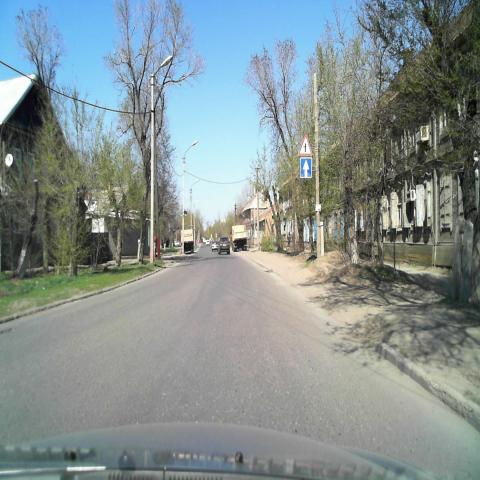5_5: (299, 156, 313, 178)
